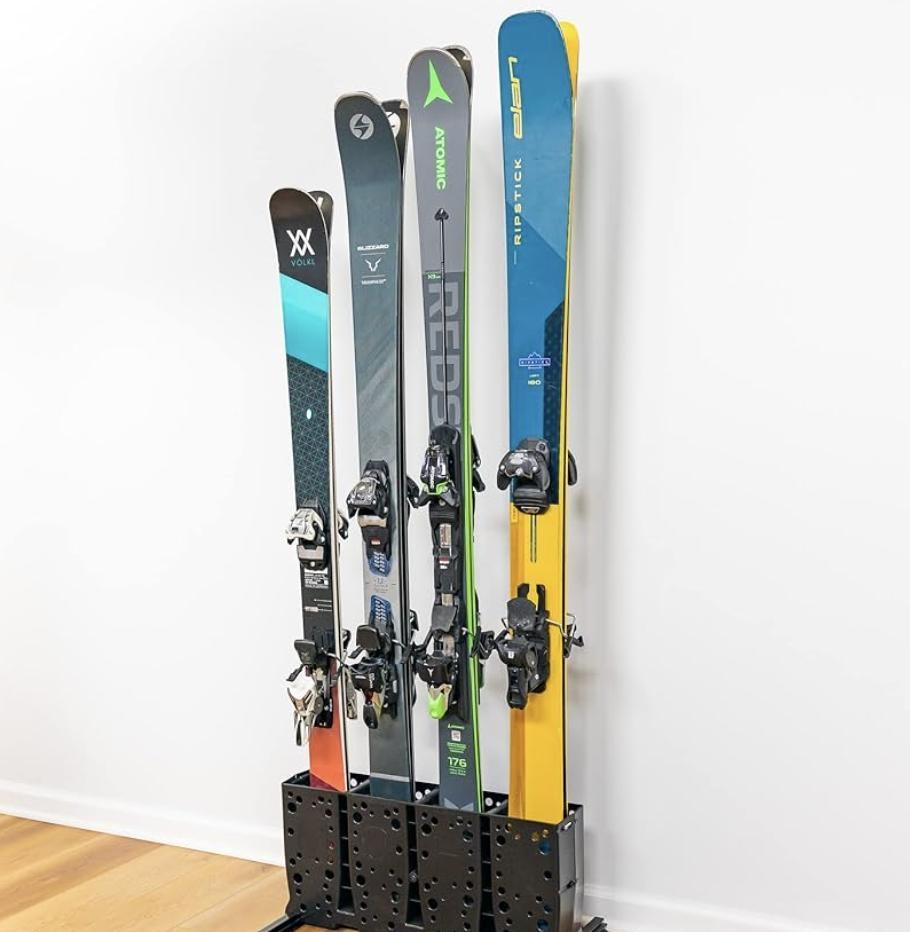Skis: (484, 8, 588, 814), (328, 88, 431, 788), (402, 45, 494, 816), (262, 182, 353, 788)
